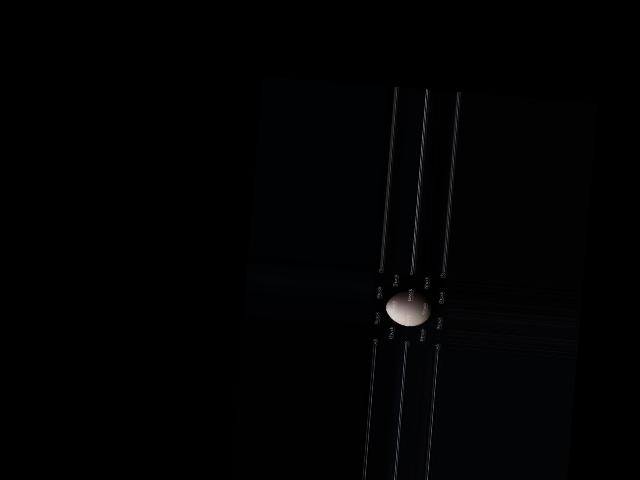egg: (384, 288, 433, 327)
